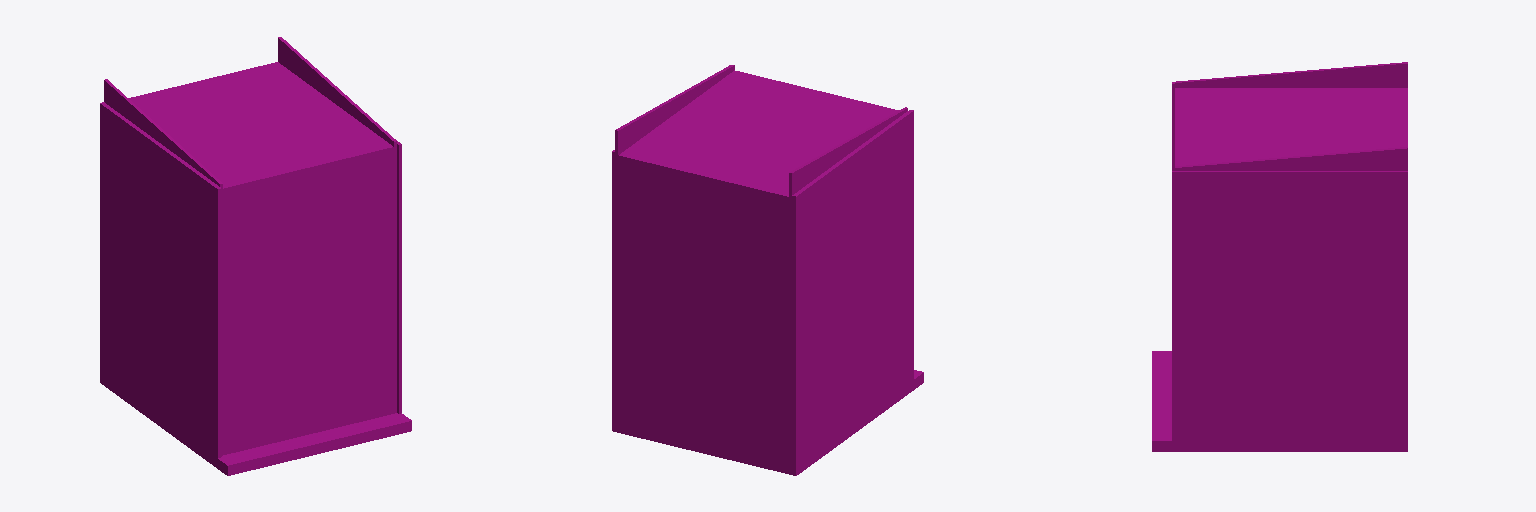
The model's file is TriplePA.obj.
3 renders of one model, left to right at view 1: azimuth 30°, elevation 25°; view 2: azimuth 150°, elevation 25°; view 3: azimuth 270°, elevation 25°, orthographic.
Parts seen in each view (by area): view 1: Box006; view 2: Box006; view 3: Box006.
Part boxes in pixels (left/top/right/bottom): Box006: left=100, top=37, right=411, bottom=475; Box006: left=612, top=65, right=923, bottom=475; Box006: left=1152, top=62, right=1407, bottom=451.
Size of the model in its own units: 21.65 by 33.85 by 25.99.